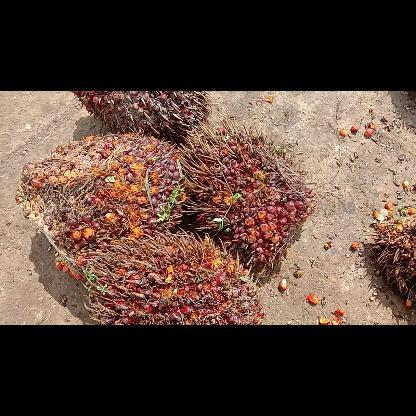TBS masak: (15, 133, 185, 277), (178, 118, 316, 266), (82, 226, 264, 324), (70, 91, 212, 141)
